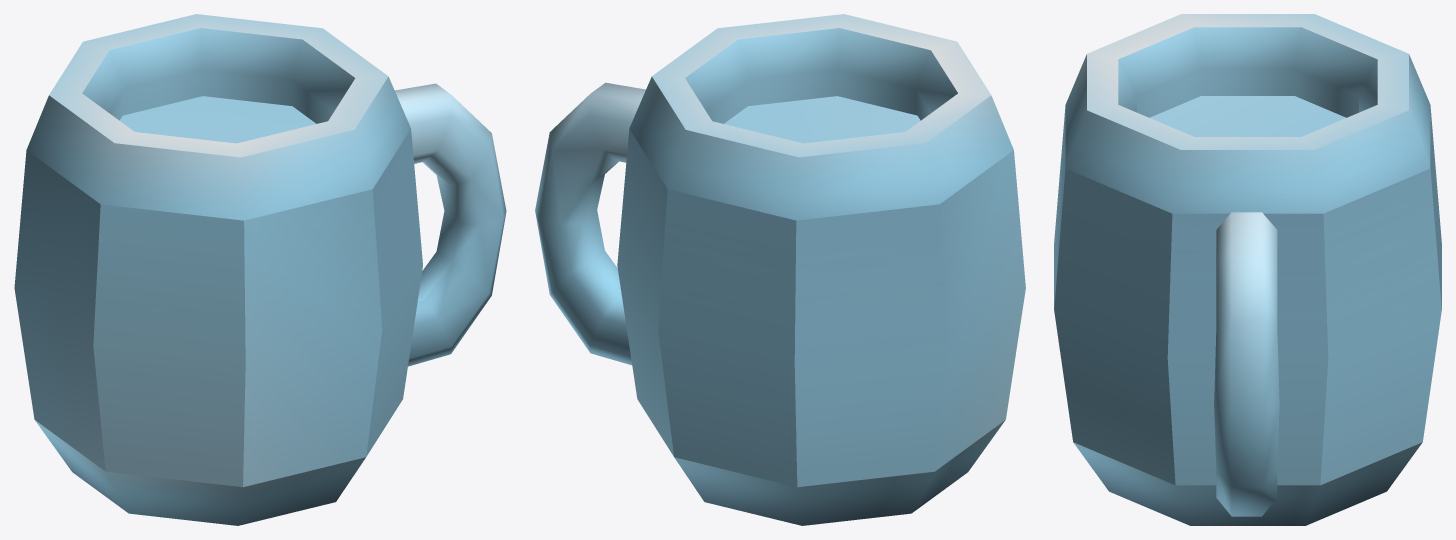
File: mug_glass_water.fbx
3 views of the same model, side by side, from view 1: azimuth 30°, elevation 25°; view 2: azimuth 150°, elevation 25°; view 3: azimuth 270°, elevation 25° (orthographic).
Parts seen in each view (by area): view 1: mug_glass_water; view 2: mug_glass_water; view 3: mug_glass_water.
Boxes of the visible parts, <box> form: mug_glass_water: <box>14,14,506,525</box>; mug_glass_water: <box>535,14,1025,525</box>; mug_glass_water: <box>1054,14,1441,525</box>.
Bounding box in the file's own units: 33.11 × 26.96 × 24.59.
